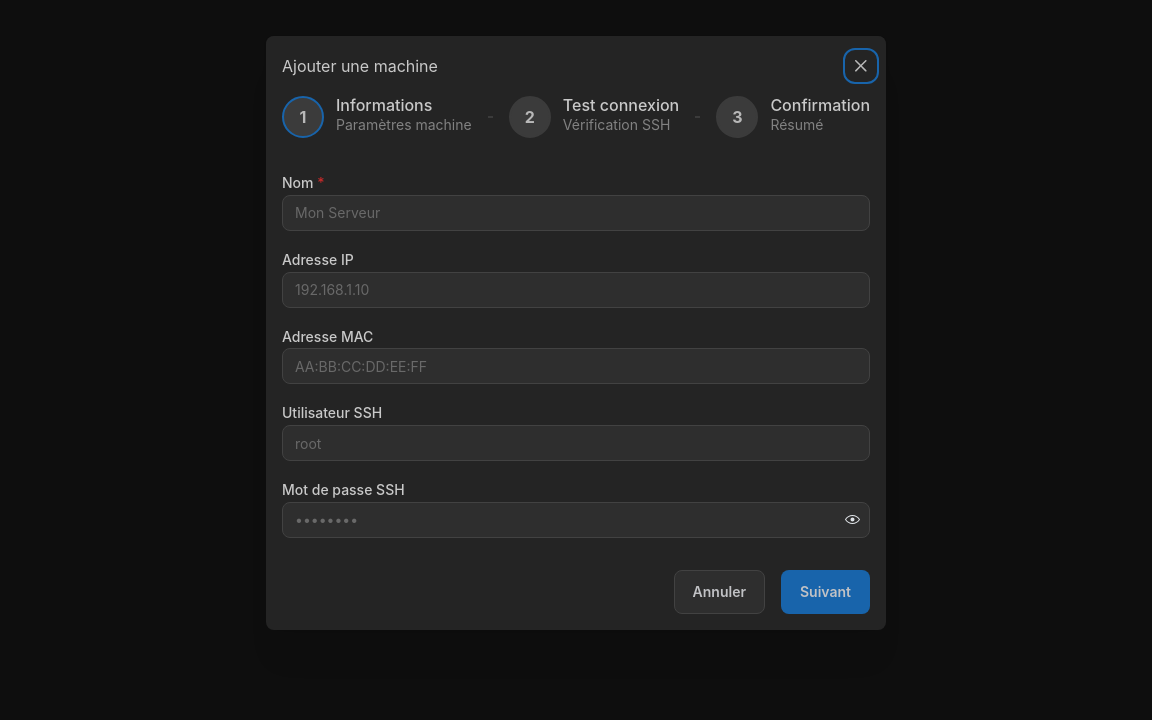
Test case: AddMachineWizard › should validate required name field
Click "Suivant" without filling name
Click the button "Suivant": click(826, 592) x1=781 y1=570 x2=870 y2=614
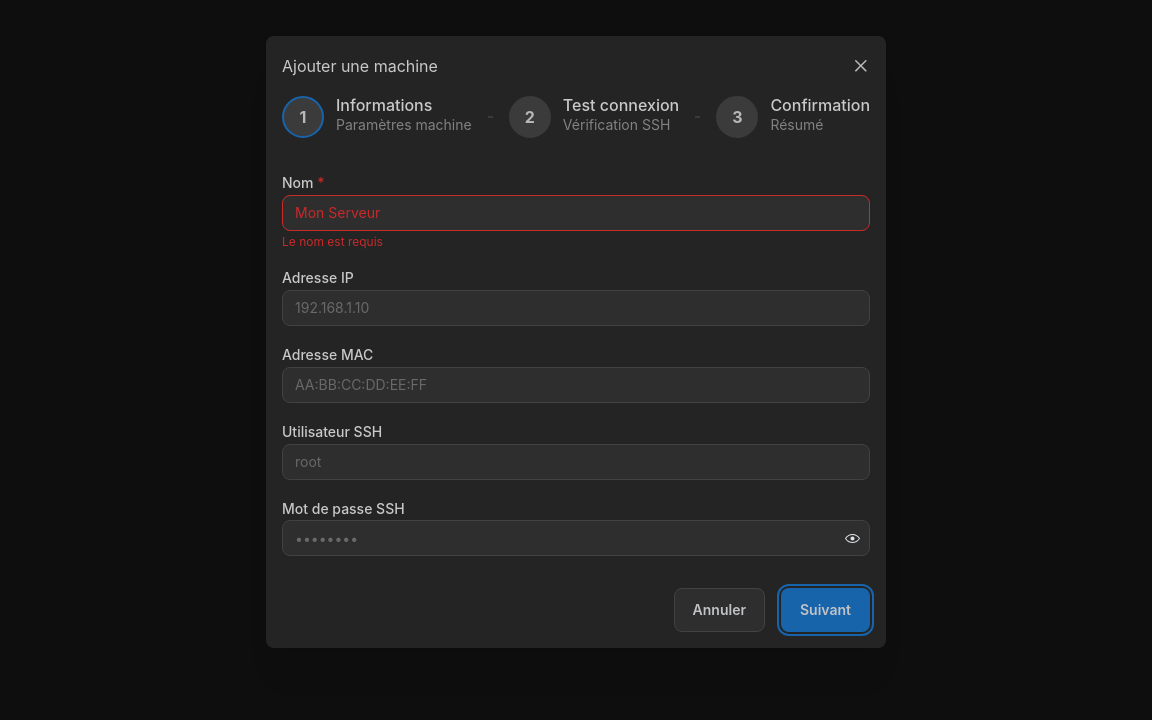
Check: the text "Le nom est requis" is shown, box x1=282 y1=234 x2=383 y2=249
